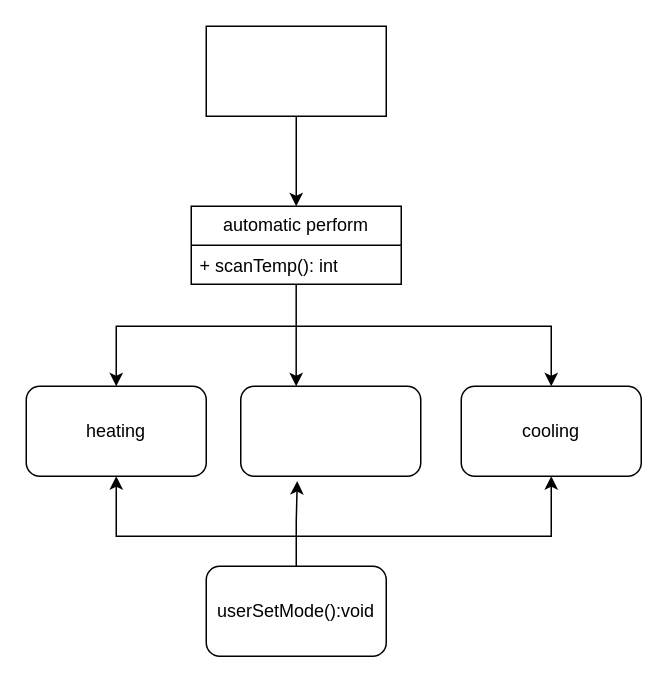
The diagram is 668 pixels wide and 683 high, and some of its shapes have lost their labels. The shapes that lost their labels are listed below. From the top down, each one's centre as x and y in pixels, then its label:
At (x=295, y=70): "user power on".
At (x=330, y=430): "auto mode".
